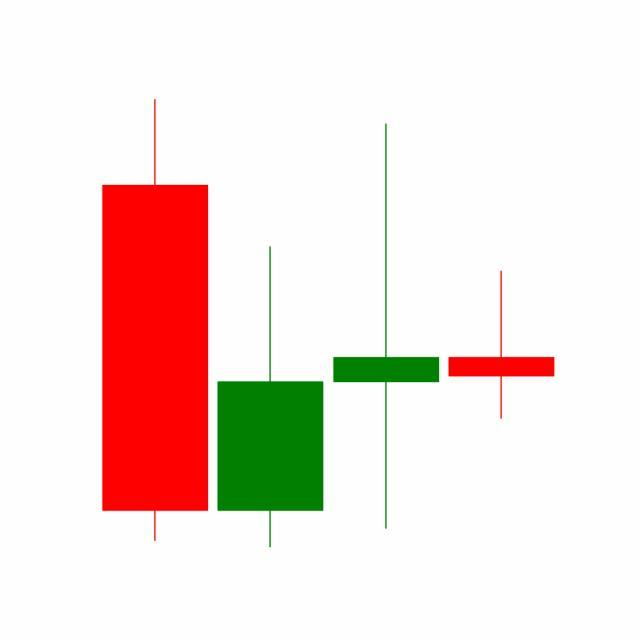Spinning Top: (329, 120, 445, 535)
